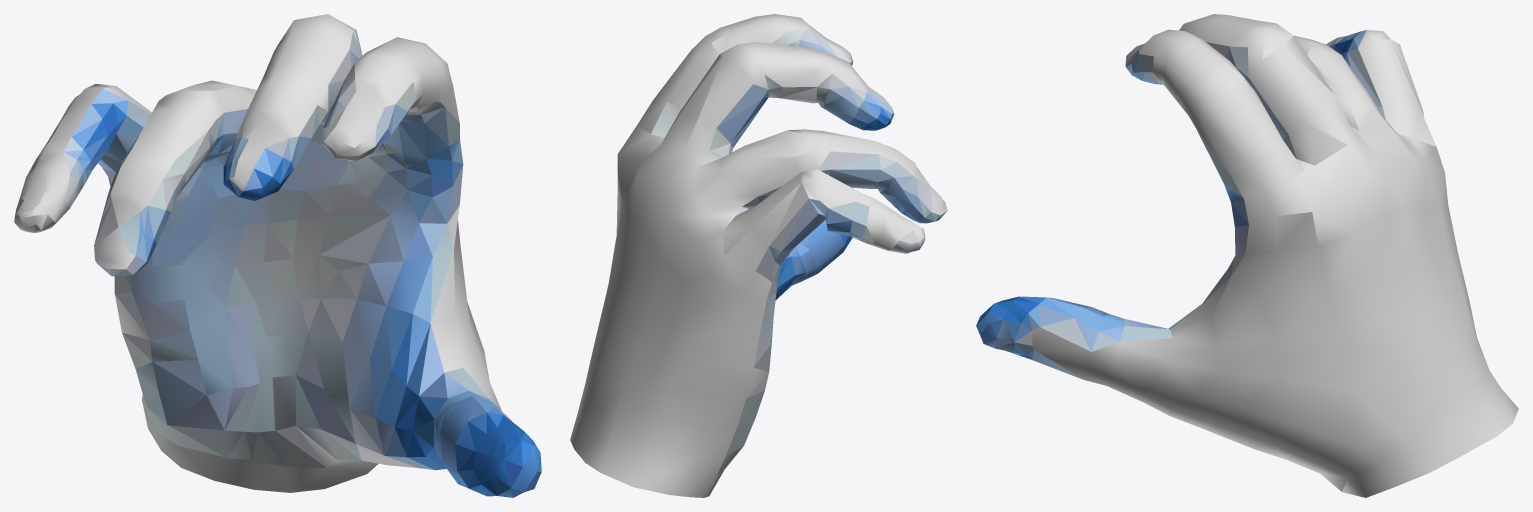
File: glove_cup.glb
3 renders of one model, left to right at view 1: azimuth 30°, elevation 25°; view 2: azimuth 150°, elevation 25°; view 3: azimuth 270°, elevation 25°, orthographic. The views are drawn at different scales.
Visible parts, largest first — view 1: mesh0; view 2: mesh0; view 3: mesh0.
Boxes of the visible parts, box(x1,y1,x2,y2) form: mesh0: box(14, 14, 541, 497); mesh0: box(570, 14, 947, 497); mesh0: box(976, 14, 1518, 497).
Size of the model in its own units: 0.1187 by 0.1417 by 0.1599.
